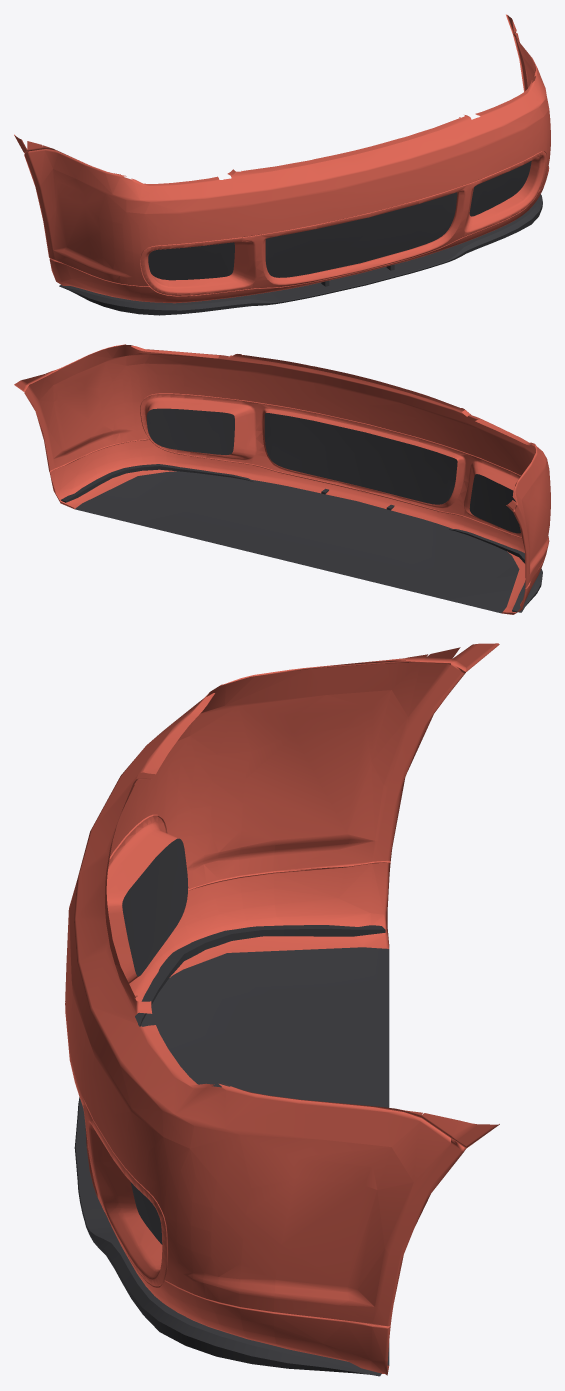
Rendered from wendtStrom_frontBumper_cupraR.glb.
The picture shows the model from 3 angles, top to bottom: view 1: azimuth 30°, elevation 25°; view 2: azimuth 150°, elevation 25°; view 3: azimuth 270°, elevation 25°; orthographic projection. The views are drawn at different scales.
Parts seen in each view (by area): view 1: frontBumper_cupraR; view 2: frontBumper_cupraR; view 3: frontBumper_cupraR.
Part boxes in pixels (bbox=[...]): frontBumper_cupraR: bbox=[14, 14, 550, 315]; frontBumper_cupraR: bbox=[14, 344, 550, 614]; frontBumper_cupraR: bbox=[65, 643, 499, 1376].
Size of the model in its own units: 1.73 by 0.4573 by 0.6593.
